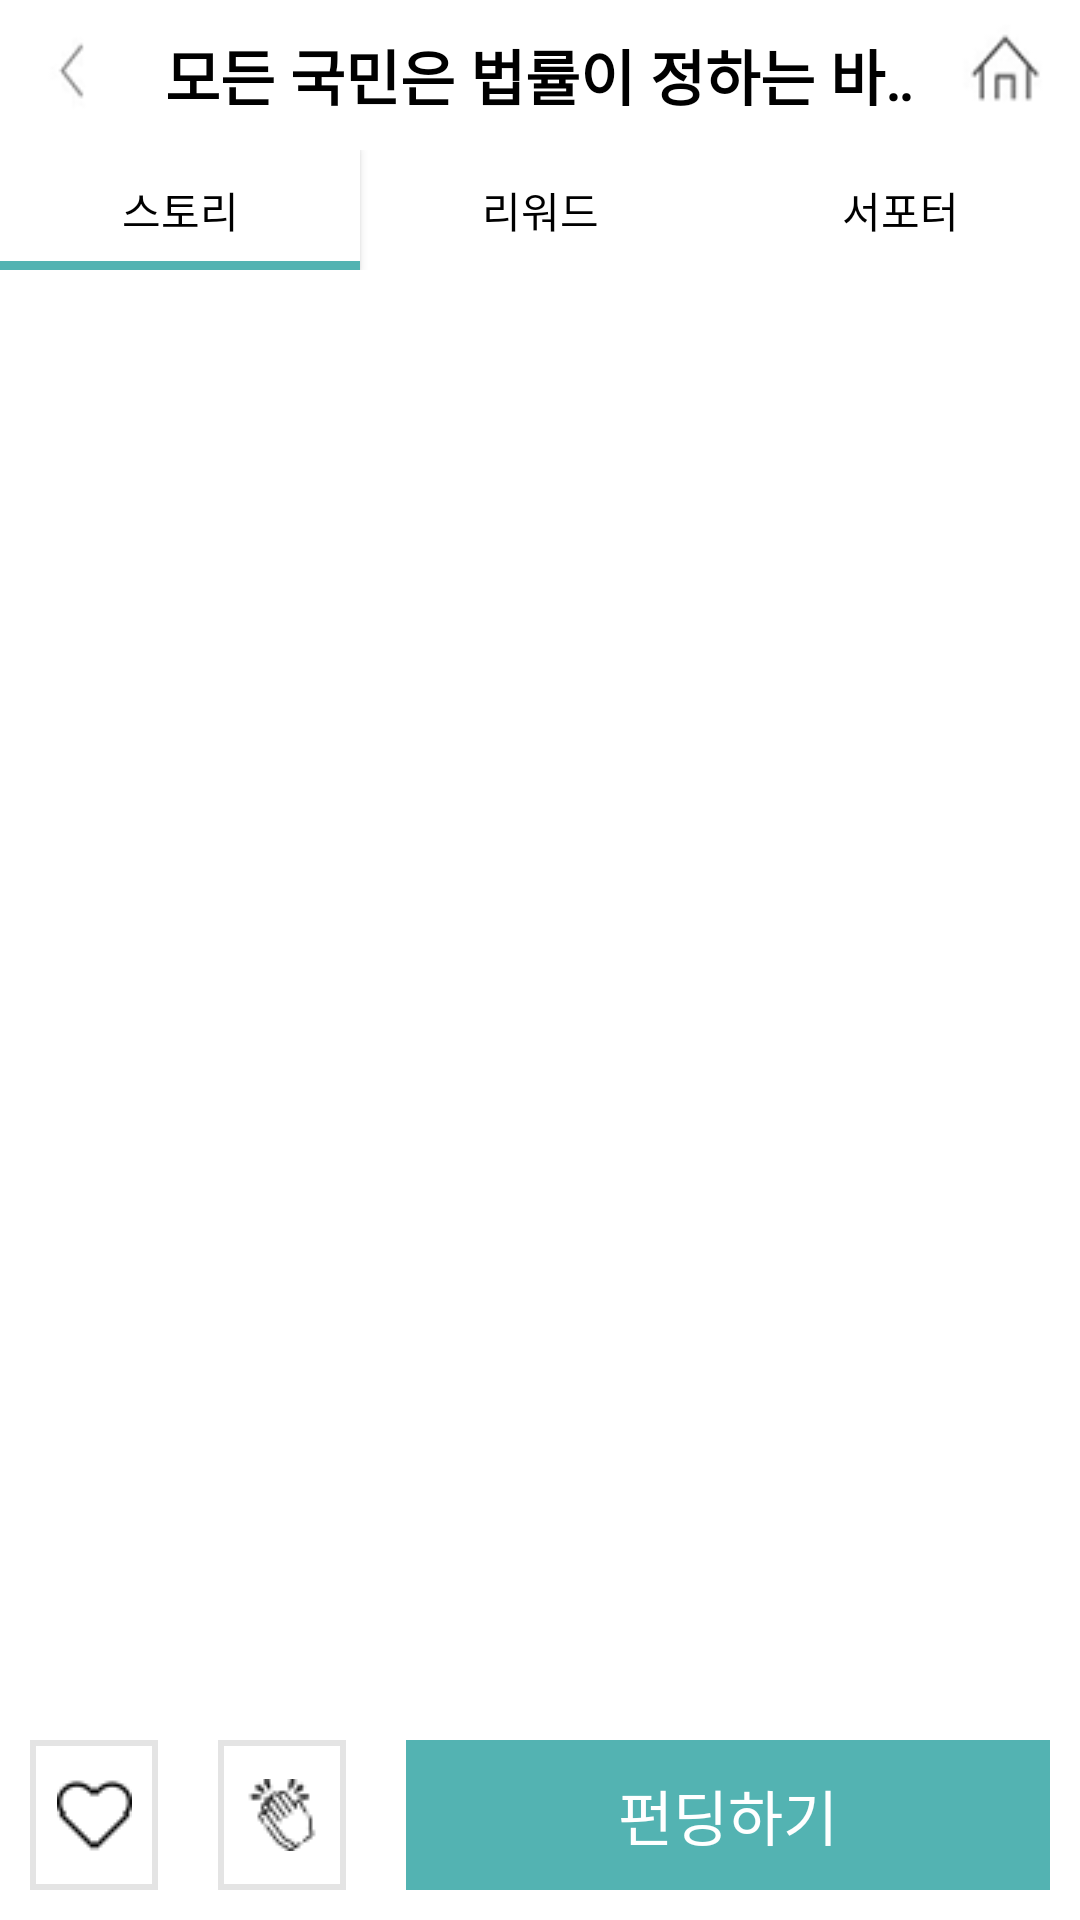

Icons on this 1080w x 1920h Android screen, each with the point to tap as (x,y):
back: (71,71)
clap: (282,1815)
heart: (94,1815)
home: (1005,68)
